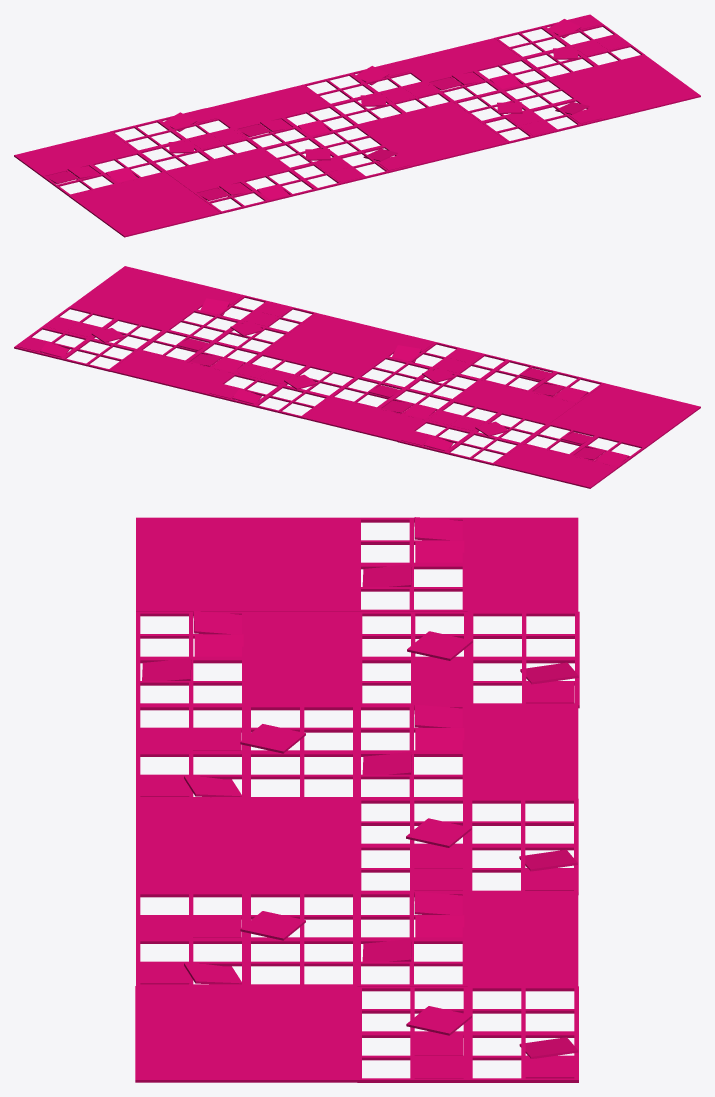
Rendered from W_01_DCeiling_01.fbx.
3 renders of one model, top to bottom at view 1: azimuth 30°, elevation 25°; view 2: azimuth 150°, elevation 25°; view 3: azimuth 270°, elevation 25°, orthographic. The views are drawn at different scales.
Visible parts, largest first — view 1: W_01_DCeiling_01; view 2: W_01_DCeiling_01; view 3: W_01_DCeiling_01.
Part boxes in pixels (box(x1,y1,x2,y2)): W_01_DCeiling_01: box(14, 14, 700, 237); W_01_DCeiling_01: box(14, 266, 700, 488); W_01_DCeiling_01: box(135, 517, 579, 1082).
Size of the model in its own units: 1800 by 15.95 by 601.
